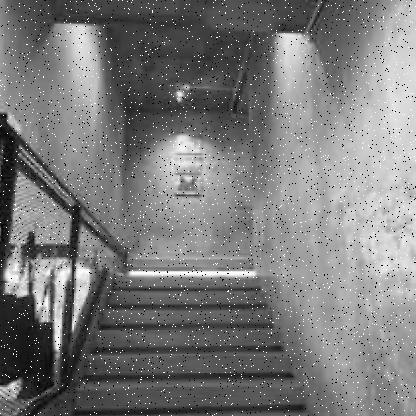stair_up: (76, 252, 298, 400)
